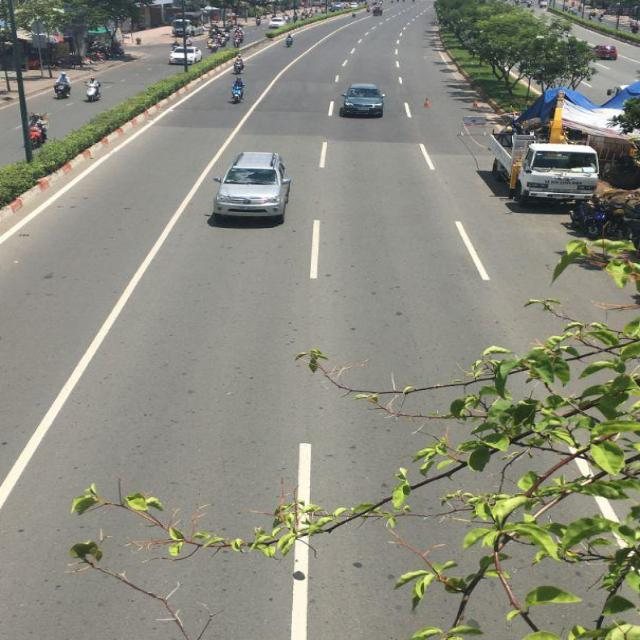car: (211, 152, 295, 226), (341, 82, 387, 119), (172, 45, 201, 65), (593, 43, 618, 60), (268, 18, 285, 30)
motorcycle: (229, 76, 245, 103), (54, 77, 72, 99), (85, 79, 102, 101)
truck: (506, 126, 598, 208)
